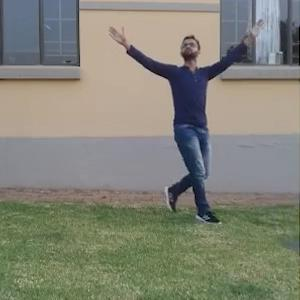takeoff: (109, 27, 258, 223)
